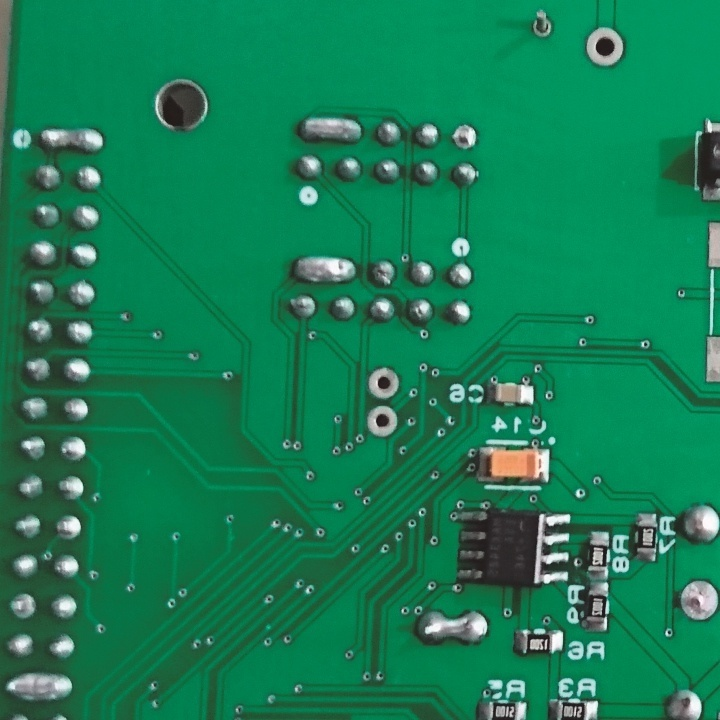F: (584, 24, 629, 72), (679, 575, 720, 625), (364, 364, 399, 405), (364, 403, 399, 440), (450, 122, 479, 153), (8, 593, 39, 621), (530, 9, 556, 42), (55, 512, 81, 541), (59, 435, 86, 462)
P: (413, 607, 492, 650), (1, 670, 79, 705), (290, 252, 361, 289), (35, 122, 109, 156), (298, 114, 362, 145)
